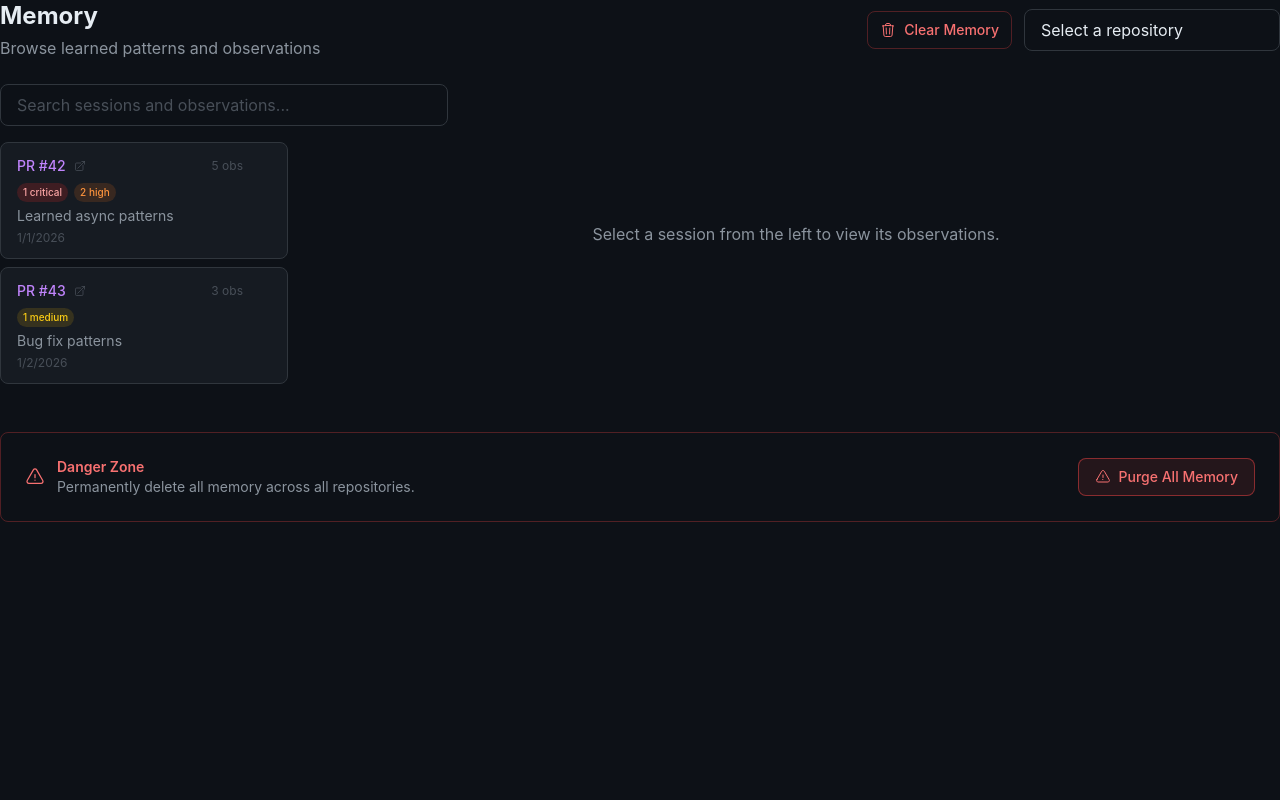
Memory page — Tier 1 (delete observation) › opens Tier 1 confirmation dialog when delete is clicked
Step 1. Click the text "PR #42" → x=41, y=166, box 17,156 -> 66,176
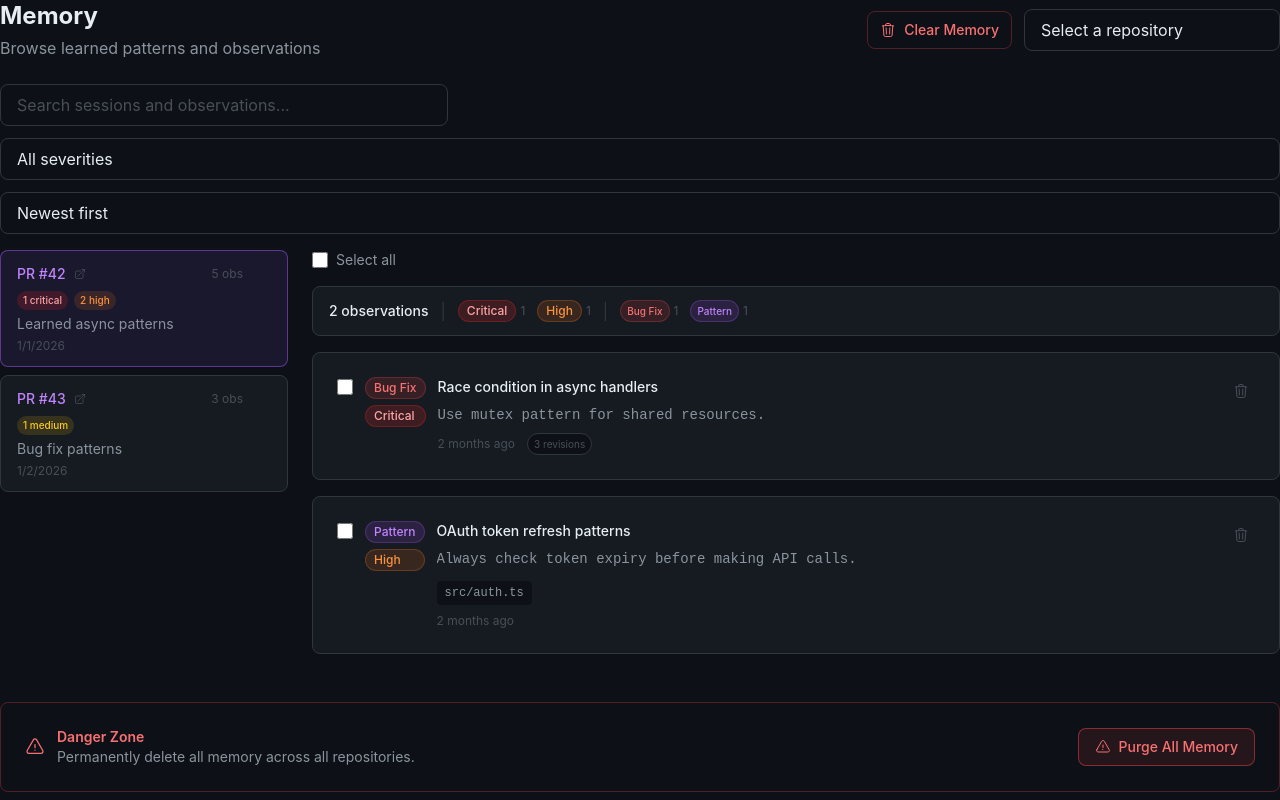
// Default sort is newest-first, so observation 43 (Race condition) is first, 42 (OAuth) is second
Step 2. Click the button titled "Delete observation" → x=1241, y=535, box 1227,521 -> 1255,549
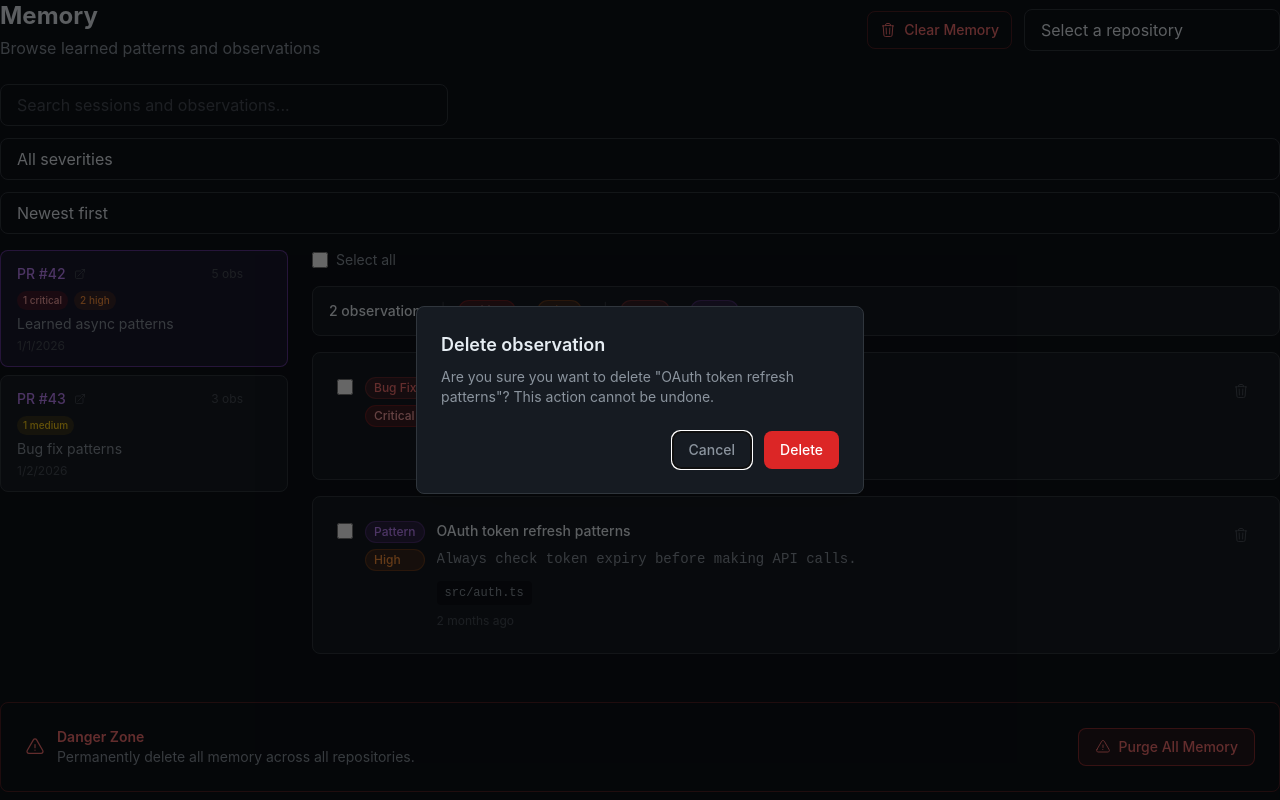
Expected: the heading "Delete observation" is shown, 441,334 -> 605,355
Expected: the text "Are you sure you want to delete \"OAuth token refresh patterns\"? This action cannot be undone." is shown, 441,368 -> 794,405
